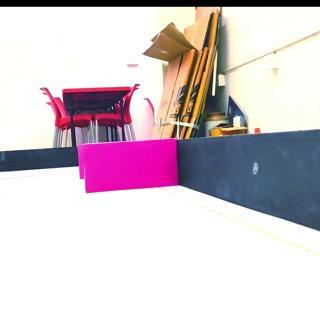xparking: (77, 137, 178, 194)
